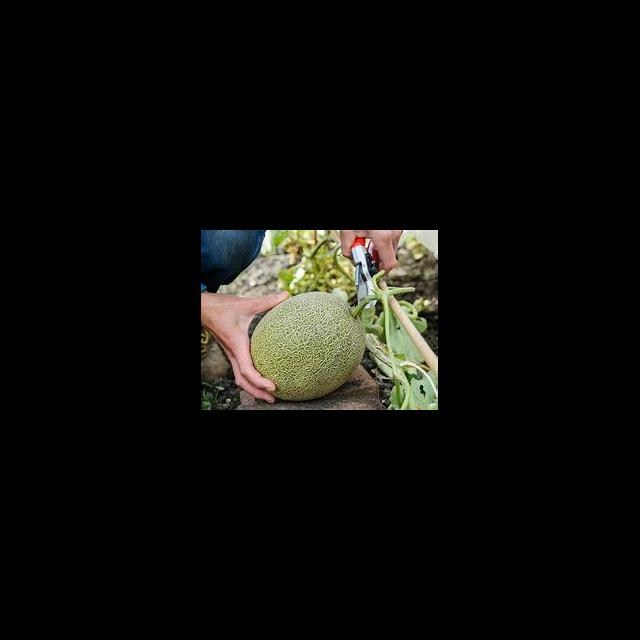Hami Melon: (250, 292, 366, 402)
